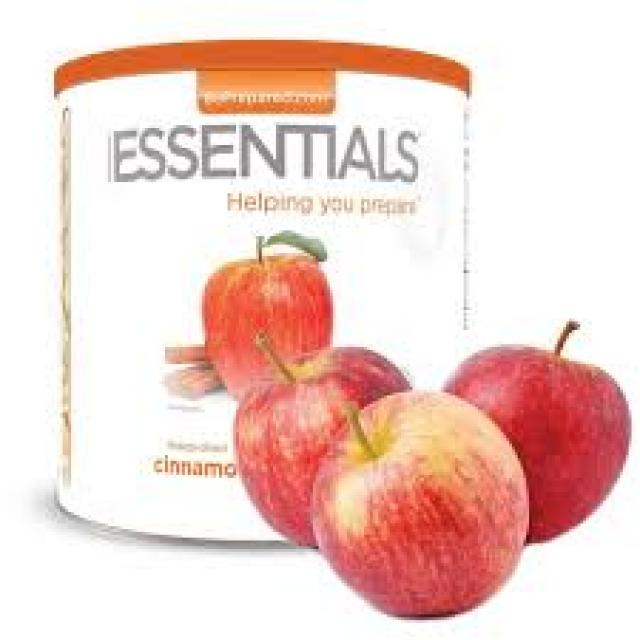Apple: (313, 392, 528, 622), (449, 321, 640, 544), (234, 348, 355, 532)
